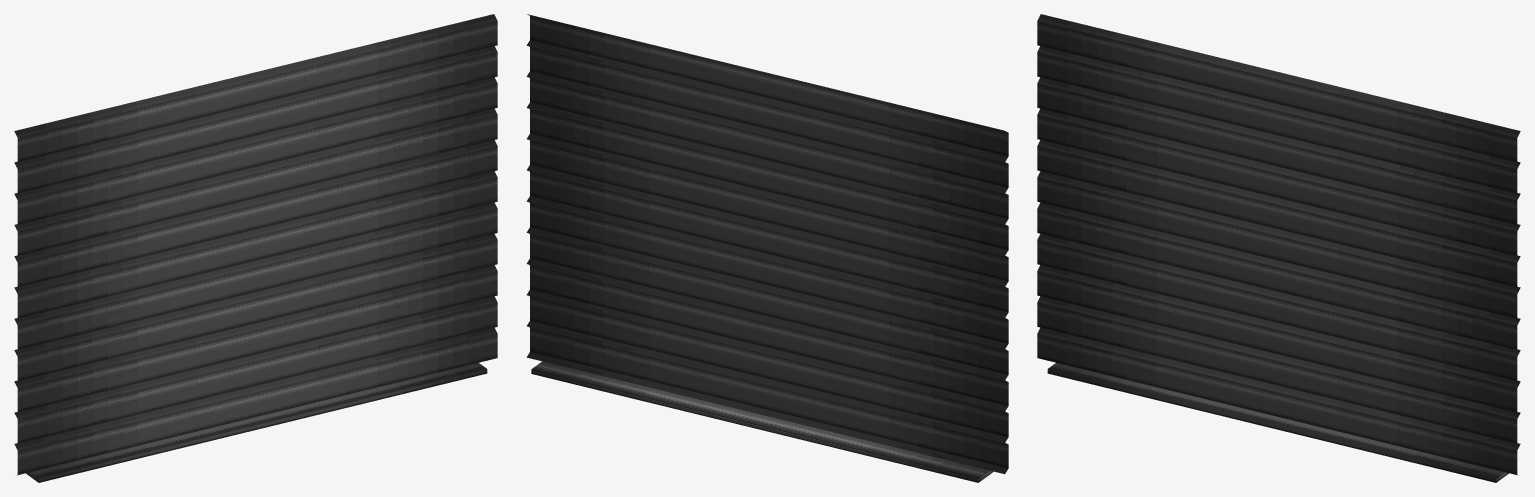
Rendered from shutter.obj.
3 views of the same model, side by side, from view 1: azimuth 30°, elevation 25°; view 2: azimuth 150°, elevation 25°; view 3: azimuth 330°, elevation 25° (orthographic).
Parts seen in each view (by area): view 1: mesh_0_door; view 2: mesh_0_door; view 3: mesh_0_door.
Part boxes in pixels (x1=…): mesh_0_door: x1=14, y1=14, x2=497, y2=482; mesh_0_door: x1=526, y1=14, x2=1008, y2=482; mesh_0_door: x1=1037, y1=14, x2=1520, y2=482.
Size of what is drawn, in the model's own units: 38.54 by 26.8 by 2.72.
